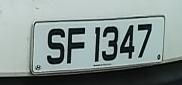1: (90, 21, 105, 68)
3: (100, 21, 120, 67)
4: (119, 19, 136, 64)
7: (136, 17, 155, 63)
F: (65, 22, 88, 70)
S: (44, 24, 67, 70)
